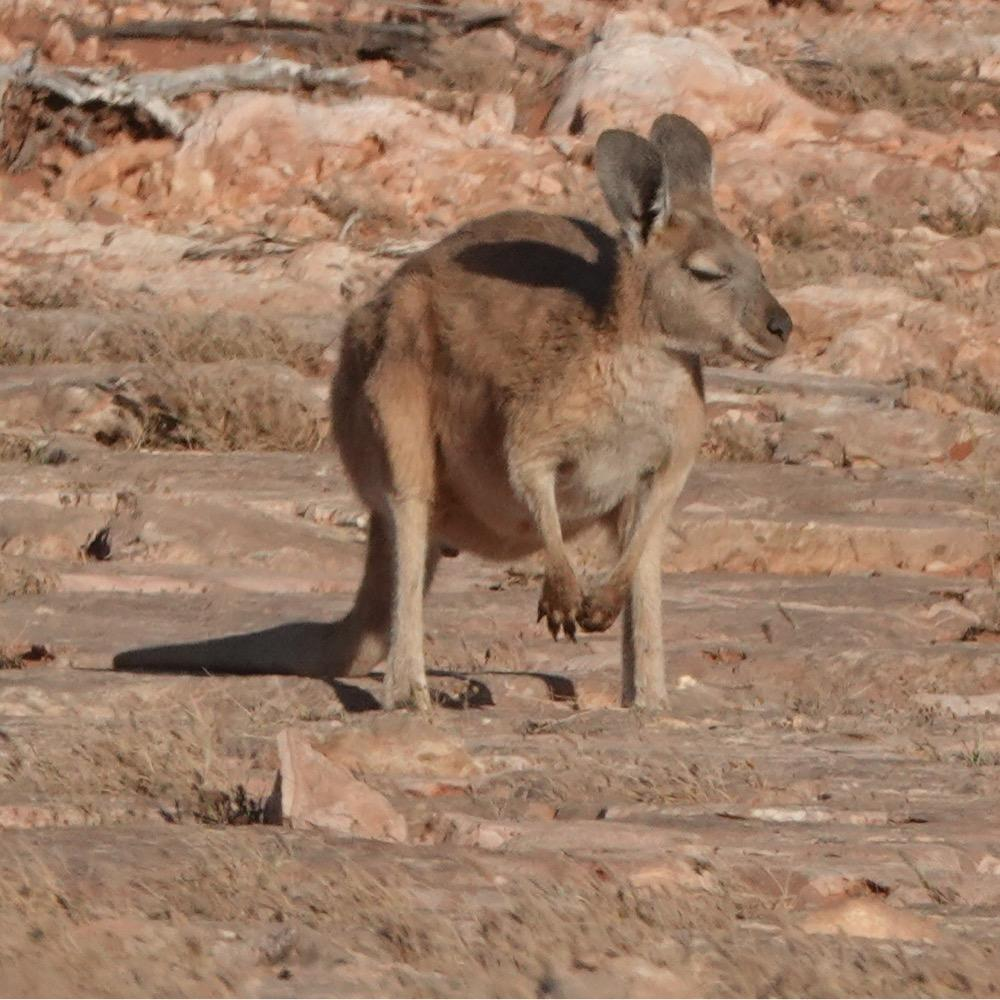Red kangaroo: (109, 110, 800, 711)
